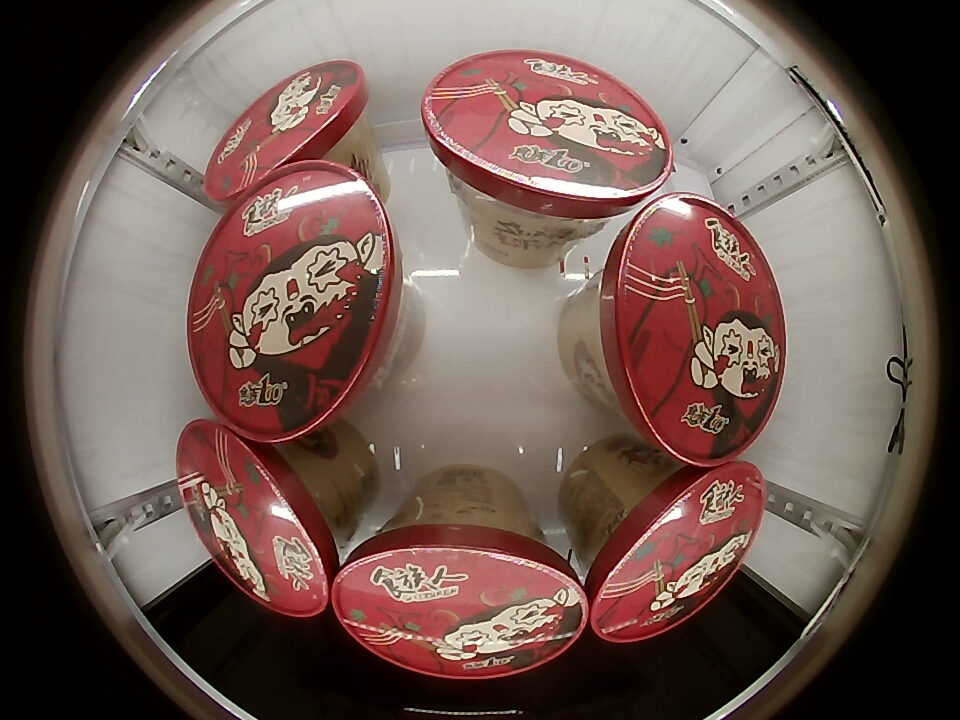suanlafen: (186, 160, 408, 441), (582, 195, 786, 466), (421, 46, 673, 221), (331, 513, 589, 679), (175, 419, 343, 618), (581, 463, 766, 643), (206, 61, 371, 199)
